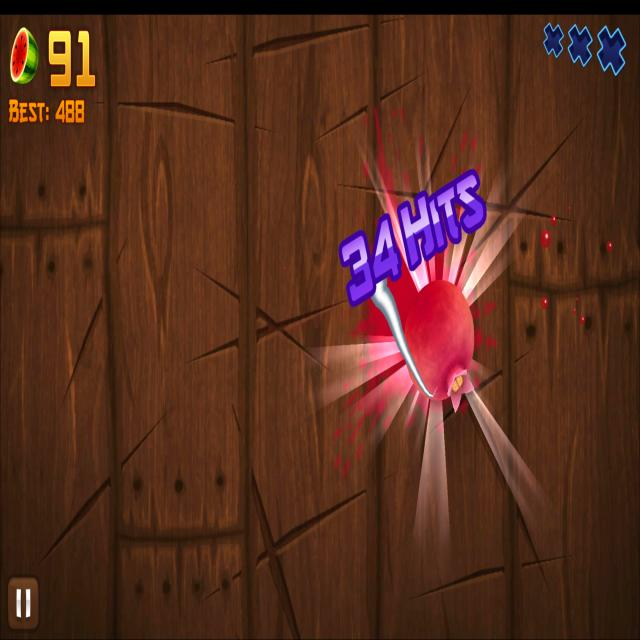fruit: (403, 279, 475, 402)
